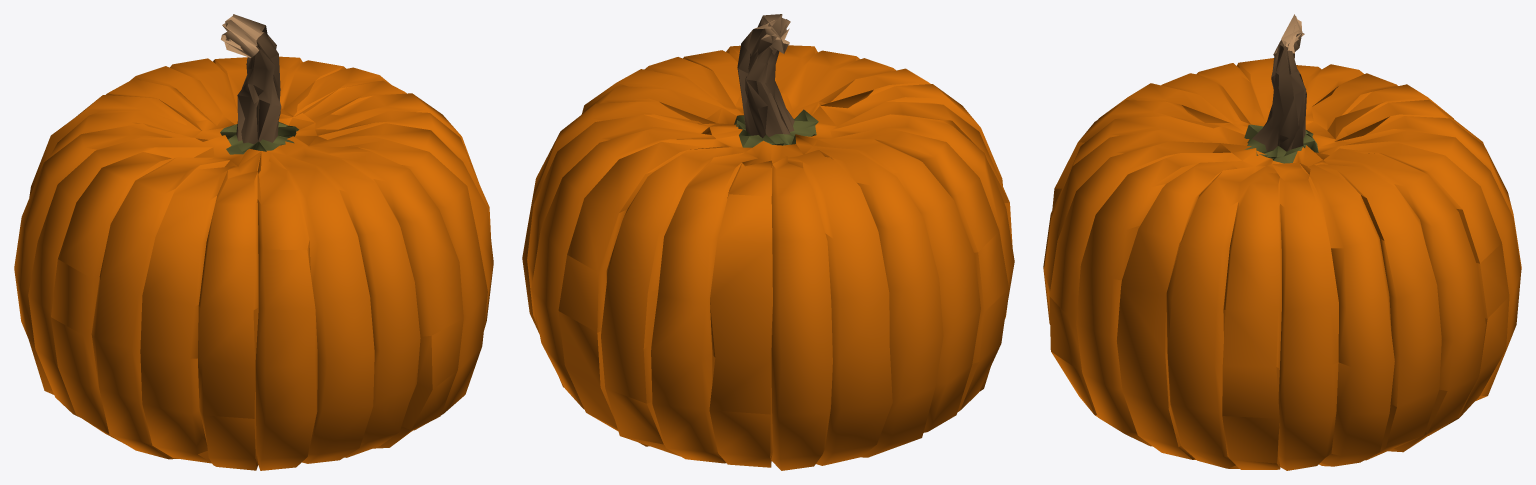
Rendered from Pumpkin.fbx.
The picture shows the model from 3 angles, left to right: view 1: azimuth 30°, elevation 25°; view 2: azimuth 150°, elevation 25°; view 3: azimuth 270°, elevation 25°; orthographic projection. The views are drawn at different scales.
Visible parts, largest first — view 1: Pumpkin:Layer1; view 2: Pumpkin:Layer1; view 3: Pumpkin:Layer1.
Part boxes in pixels (x1,y1,x2,y2): Pumpkin:Layer1: (14,14,493,470); Pumpkin:Layer1: (522,14,1014,470); Pumpkin:Layer1: (1043,14,1521,470).
Bounding box in the file's own units: 126 × 118 × 128.
